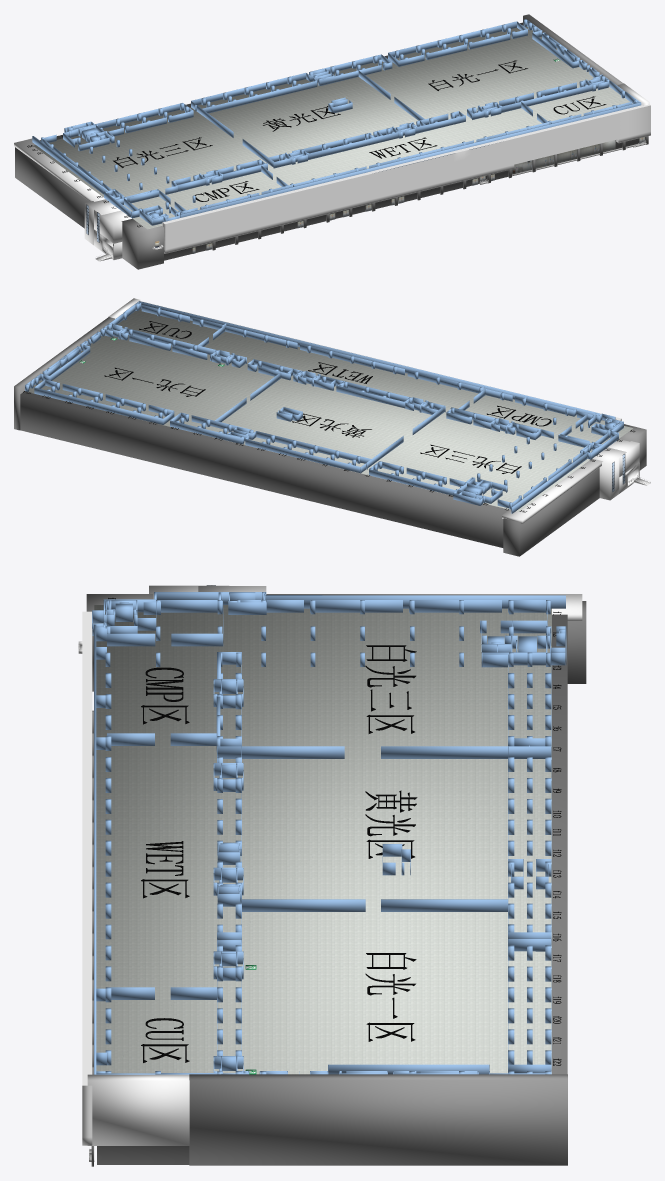
The model's file is 4f_mini.gltf.
3 views of the same model, one above another, from view 1: azimuth 30°, elevation 25°; view 2: azimuth 150°, elevation 25°; view 3: azimuth 270°, elevation 25° (orthographic). The views are drawn at different scales.
Parts seen in each view (by area): view 1: fab_n1_dimian_3f, fab_n1_waiguan_3_53, fab_n1_waiguan_3_45, fab_n1_waiguan_3_47, fab_n1_qiang_3f_29, fab_n1_waiguan_3_43, fab_n1_waiguan_3_52, fab_n1_qiang_3f_290, fab_n1_waiguan_3_22, fab_n1_waiguan_3_46, fab_n1_qiang_3f_297, fab_n1_qiang_3f_289 (+8 smaller); view 2: fab_n1_dimian_3f, fab_n1_waiguan_3_47, fab_n1_waiguan_3_45, fab_n1_qiang_3f_29, fab_n1_waiguan_3_52, fab_n1_waiguan_3_46, fab_n1_waiguan_3_68, fab_n1_qiang_3f_297, fab_n1_qiang_3f_289, fab_n1_qiang_3f_68, fab_n1_qiang_3f_290, fab_n1_qiang_3f_67 (+12 smaller); view 3: fab_n1_dimian_3f, fab_n1_waiguan_3_46, fab_n1_waiguan_3_47, fab_n1_waiguan_3_44, fab_n1_waiguan_3_53, fab_n1_qiang_3f_99, fab_n1_qiang_3f_61, fab_n1_qiang_3f_98, fab_n1_qiang_3f_435, fab_n1_qiang_3f_97, fab_n1_waiguan_3_45, fab_n1_qiang_3f_29 (+9 smaller).
Boxes of the visible parts, left/top/right/bottom form: fab_n1_dimian_3f: left=33, top=26, right=632, bottom=229; fab_n1_waiguan_3_53: left=162, top=104, right=650, bottom=253; fab_n1_waiguan_3_45: left=15, top=147, right=88, bottom=228; fab_n1_waiguan_3_47: left=40, top=22, right=645, bottom=260; fab_n1_qiang_3f_29: left=180, top=102, right=641, bottom=217; fab_n1_waiguan_3_43: left=121, top=218, right=163, bottom=269; fab_n1_waiguan_3_52: left=14, top=138, right=105, bottom=201; fab_n1_qiang_3f_290: left=202, top=80, right=317, bottom=113; fab_n1_waiguan_3_22: left=94, top=210, right=131, bottom=243; fab_n1_waiguan_3_46: left=523, top=14, right=623, bottom=85; fab_n1_qiang_3f_297: left=388, top=21, right=516, bottom=57; fab_n1_qiang_3f_289: left=191, top=73, right=306, bottom=105; fab_n1_dimian_3f: left=25, top=308, right=632, bottom=511; fab_n1_waiguan_3_47: left=20, top=391, right=509, bottom=547; fab_n1_waiguan_3_45: left=503, top=468, right=599, bottom=556; fab_n1_qiang_3f_29: left=139, top=301, right=600, bottom=415; fab_n1_waiguan_3_52: left=502, top=458, right=602, bottom=523; fab_n1_waiguan_3_46: left=14, top=317, right=114, bottom=430; fab_n1_waiguan_3_68: left=593, top=447, right=626, bottom=500; fab_n1_qiang_3f_297: left=34, top=387, right=163, bottom=424; fab_n1_qiang_3f_289: left=245, top=439, right=360, bottom=473; fab_n1_qiang_3f_68: left=300, top=343, right=404, bottom=375; fab_n1_qiang_3f_290: left=256, top=431, right=371, bottom=463; fab_n1_qiang_3f_67: left=407, top=370, right=512, bottom=401; fab_n1_dimian_3f: left=94, top=605, right=551, bottom=1074; fab_n1_waiguan_3_46: left=189, top=1074, right=567, bottom=1165; fab_n1_waiguan_3_47: left=97, top=614, right=567, bottom=1164; fab_n1_waiguan_3_44: left=87, top=1074, right=189, bottom=1145; fab_n1_waiguan_3_53: left=82, top=611, right=92, bottom=1145; fab_n1_qiang_3f_99: left=381, top=746, right=551, bottom=758; fab_n1_qiang_3f_61: left=265, top=595, right=565, bottom=608; fab_n1_qiang_3f_98: left=381, top=899, right=507, bottom=911; fab_n1_qiang_3f_435: left=217, top=746, right=344, bottom=758; fab_n1_qiang_3f_97: left=242, top=899, right=365, bottom=911; fab_n1_waiguan_3_45: left=567, top=601, right=586, bottom=683; fab_n1_qiang_3f_29: left=94, top=624, right=96, bottom=1074.
Size of the model in its own units: 349 by 26.8 by 144.
Materials: 42 (31 with a texture image).
